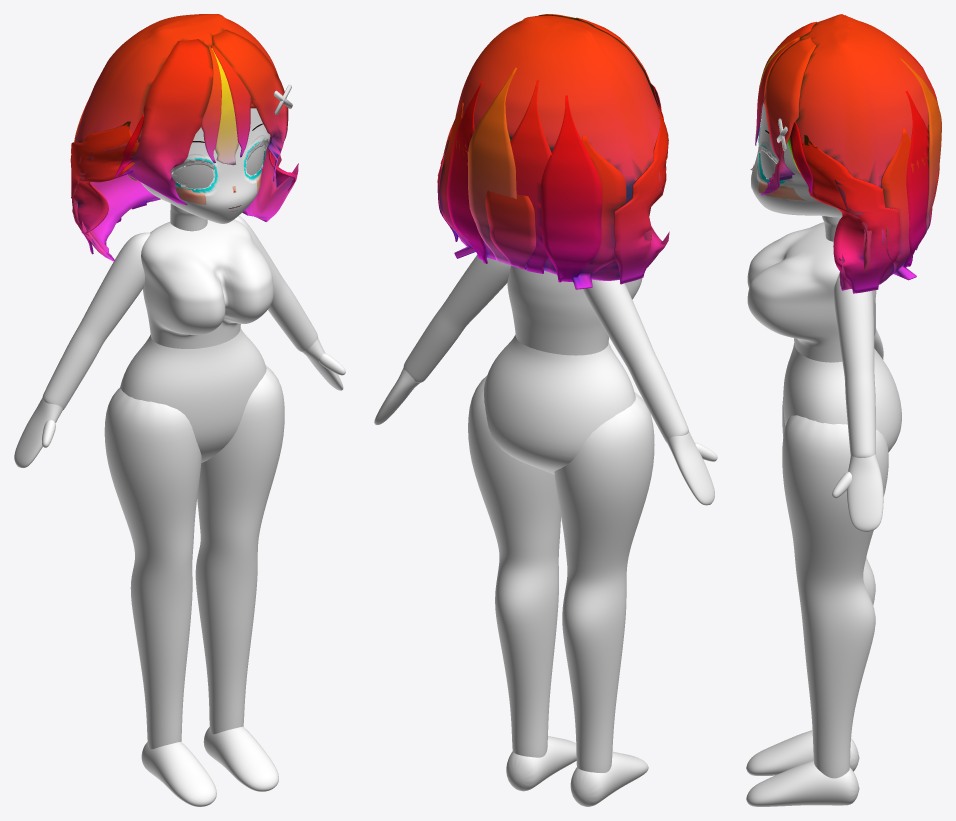
Rendered from MainGirlfriend_Race3D_v1.fbx.
3 views of the same model, side by side, from view 1: azimuth 30°, elevation 25°; view 2: azimuth 150°, elevation 25°; view 3: azimuth 270°, elevation 25° (orthographic). The views are drawn at different scales.
Parts seen in each view (by area): view 1: Blockout_Leg.R, Blockout_Leg.L, hair_bob_01__Bangs, Blockout_Torso, hair_bob_01__Volume, Blockout_Pelvis, Blockout_Arm.R, Blockout_Head, hair_bob_01__Side_R, Blockout_Foot.R, Blockout_Foot.L, Blockout_Arm.L (+4 smaller); view 2: Blockout_Leg.R, hair_bob_01__Back, hair_bob_01__Volume, Blockout_Leg.L, Blockout_Pelvis, hair_bob_01__Side_R, Blockout_Torso, Blockout_Arm.R, Blockout_Arm.L, Blockout_Foot.R, Blockout_Foot.L, Blockout_Hand.R (+2 smaller); view 3: Blockout_Leg.L, hair_bob_01__Volume, hair_bob_01__Side_L, Blockout_Torso, Blockout_Pelvis, Blockout_Arm.L, hair_bob_01__Bangs, hair_bob_01__Back, Blockout_Foot.L, Blockout_Hand.L, Blockout_Head, Blockout_Foot.R (+3 smaller).
Part boxes in pixels (bbox=[...]): Blockout_Leg.R: bbox=[104, 388, 201, 749]; Blockout_Leg.L: bbox=[195, 365, 284, 734]; hair_bob_01__Bangs: bbox=[125, 29, 288, 205]; Blockout_Torso: bbox=[141, 219, 273, 348]; hair_bob_01__Volume: bbox=[72, 14, 298, 261]; Blockout_Pelvis: bbox=[120, 328, 266, 462]; Blockout_Arm.R: bbox=[42, 232, 150, 409]; Blockout_Head: bbox=[141, 108, 270, 223]; hair_bob_01__Side_R: bbox=[70, 81, 139, 254]; Blockout_Foot.R: bbox=[141, 742, 216, 806]; Blockout_Foot.L: bbox=[203, 726, 278, 791]; Blockout_Arm.L: bbox=[235, 216, 317, 352]; Blockout_Leg.R: bbox=[554, 392, 654, 772]; hair_bob_01__Back: bbox=[447, 67, 602, 282]; hair_bob_01__Volume: bbox=[437, 15, 669, 280]; Blockout_Leg.L: bbox=[468, 376, 560, 757]; Blockout_Pelvis: bbox=[484, 334, 635, 474]; hair_bob_01__Side_R: bbox=[571, 102, 668, 289]; Blockout_Torso: bbox=[507, 265, 642, 355]; Blockout_Arm.R: bbox=[582, 279, 688, 442]; Blockout_Arm.L: bbox=[403, 255, 510, 382]; Blockout_Foot.R: bbox=[570, 751, 648, 806]; Blockout_Foot.L: bbox=[506, 736, 576, 791]; Blockout_Hand.R: bbox=[667, 431, 717, 505]; Blockout_Leg.L: bbox=[782, 415, 888, 778]; hair_bob_01__Volume: bbox=[763, 14, 935, 290]; hair_bob_01__Side_L: bbox=[792, 128, 928, 293]; Blockout_Torso: bbox=[747, 222, 876, 362]; Blockout_Pelvis: bbox=[783, 343, 901, 452]; Blockout_Arm.L: bbox=[833, 272, 875, 457]; hair_bob_01__Bangs: bbox=[755, 21, 817, 195]; hair_bob_01__Back: bbox=[900, 51, 941, 267]; Blockout_Foot.L: bbox=[746, 760, 859, 806]; Blockout_Hand.L: bbox=[832, 454, 883, 532]; Blockout_Head: bbox=[751, 103, 842, 217]; Blockout_Foot.R: bbox=[746, 730, 859, 775].
Bounding box in the file's own units: 74.75 × 165 × 38.63.
